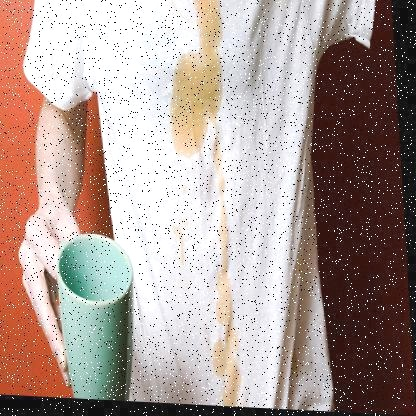coffee: (169, 51, 223, 156), (207, 330, 242, 402), (215, 206, 232, 323), (198, 0, 221, 45)
